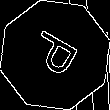P_SE: (24, 27, 86, 83)
